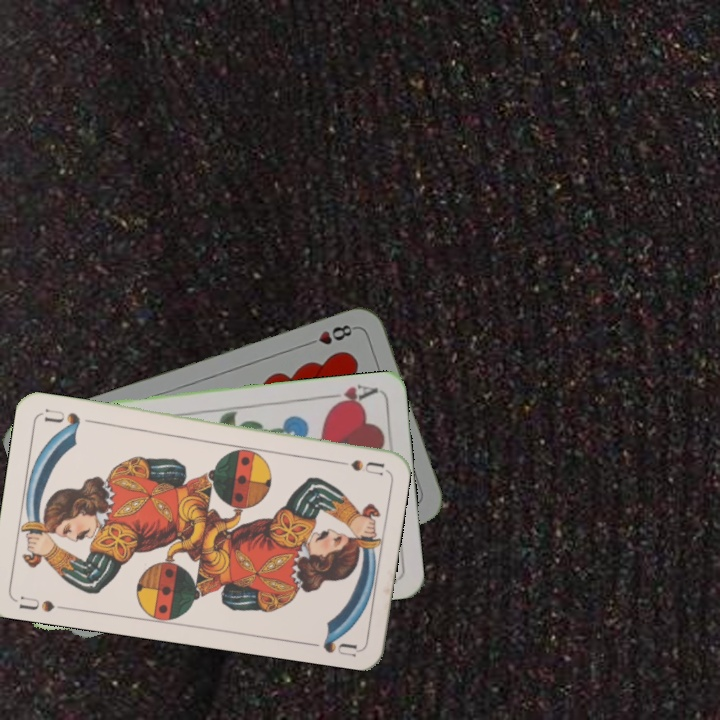H8: (301, 320, 359, 349)
HA: (321, 381, 380, 411)
SU: (326, 455, 386, 477), (15, 591, 57, 615)
